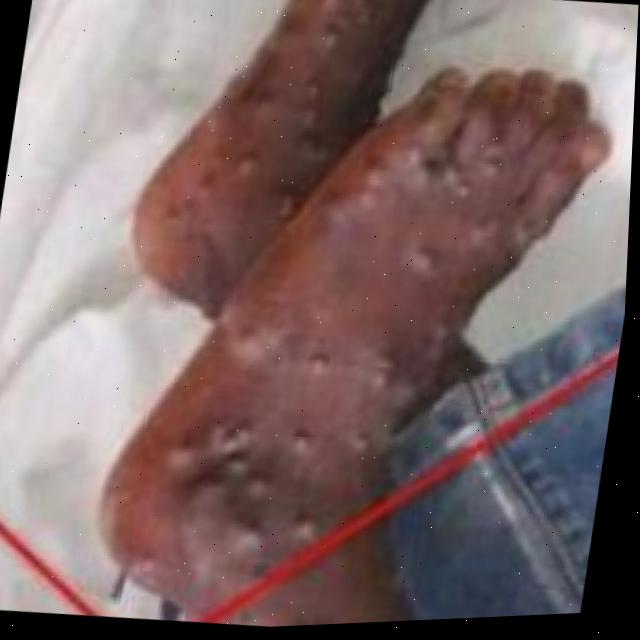Eczema: (157, 23, 430, 570)
